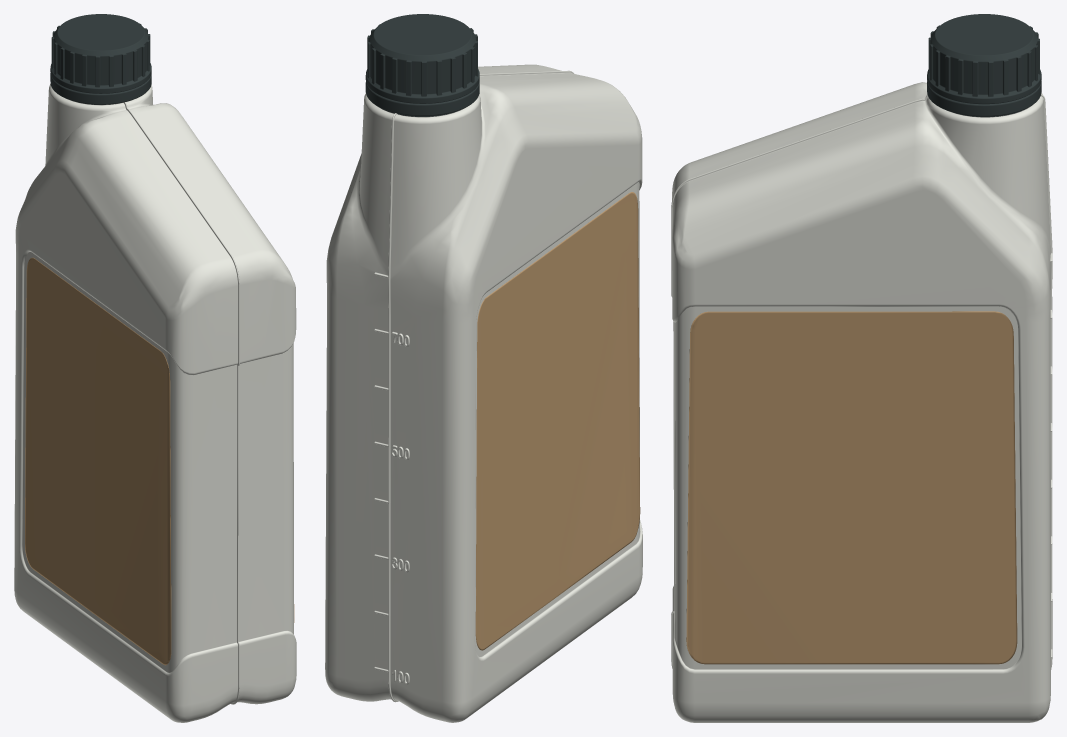
File: consumable_differential_axle_oil_a01.glb
The picture shows the model from 3 angles, left to right: view 1: azimuth 30°, elevation 25°; view 2: azimuth 150°, elevation 25°; view 3: azimuth 270°, elevation 25°; orthographic projection. The views are drawn at different scales.
Size of the model in its own units: 0.0604 by 0.2628 by 0.1377.
